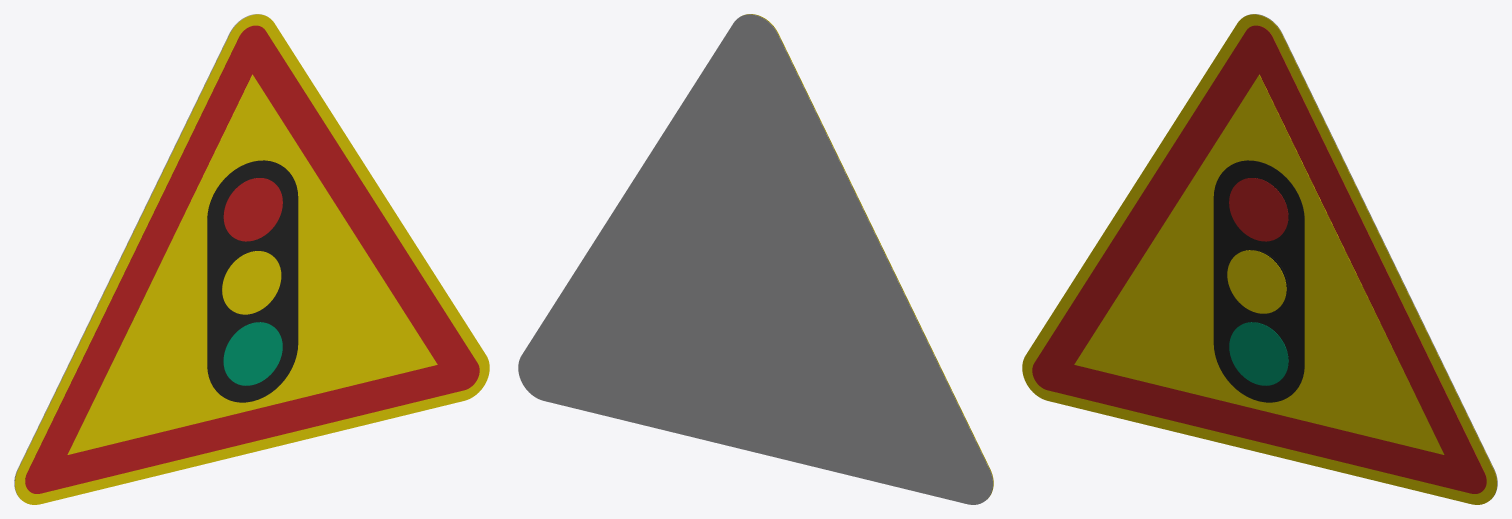
3 renders of one model, left to right at view 1: azimuth 30°, elevation 25°; view 2: azimuth 150°, elevation 25°; view 3: azimuth 330°, elevation 25°, orthographic.
Parts seen in each view (by area): view 1: AK17_p02, AK17_p01, AK17_p00, AK17_p03, AK17_p07, AK17_p05, AK17_p06, AK17_dos; view 2: AK17_dos, AK17_p00; view 3: AK17_p02, AK17_p01, AK17_p00, AK17_p03, AK17_p05, AK17_p07, AK17_p06, AK17_dos.
Boxes of the visible parts, x1,y1,x2,y2 form: AK17_p02: [67, 74, 437, 454]; AK17_p01: [25, 25, 479, 493]; AK17_p00: [15, 14, 489, 504]; AK17_p03: [207, 160, 298, 402]; AK17_p07: [222, 251, 281, 314]; AK17_p05: [223, 322, 282, 385]; AK17_p06: [223, 178, 282, 241]; AK17_dos: [14, 14, 267, 499]; AK17_dos: [518, 14, 992, 504]; AK17_p00: [740, 14, 993, 499]; AK17_p02: [1074, 74, 1444, 454]; AK17_p01: [1032, 25, 1486, 493]; AK17_p00: [1022, 14, 1496, 504]; AK17_p03: [1213, 160, 1304, 402]; AK17_p05: [1229, 322, 1288, 385]; AK17_p07: [1227, 250, 1286, 313]; AK17_p06: [1229, 178, 1288, 241]; AK17_dos: [1244, 14, 1497, 499].
Bounding box in the file's own units: 0.7 × 0.6162 × 0.0047.
